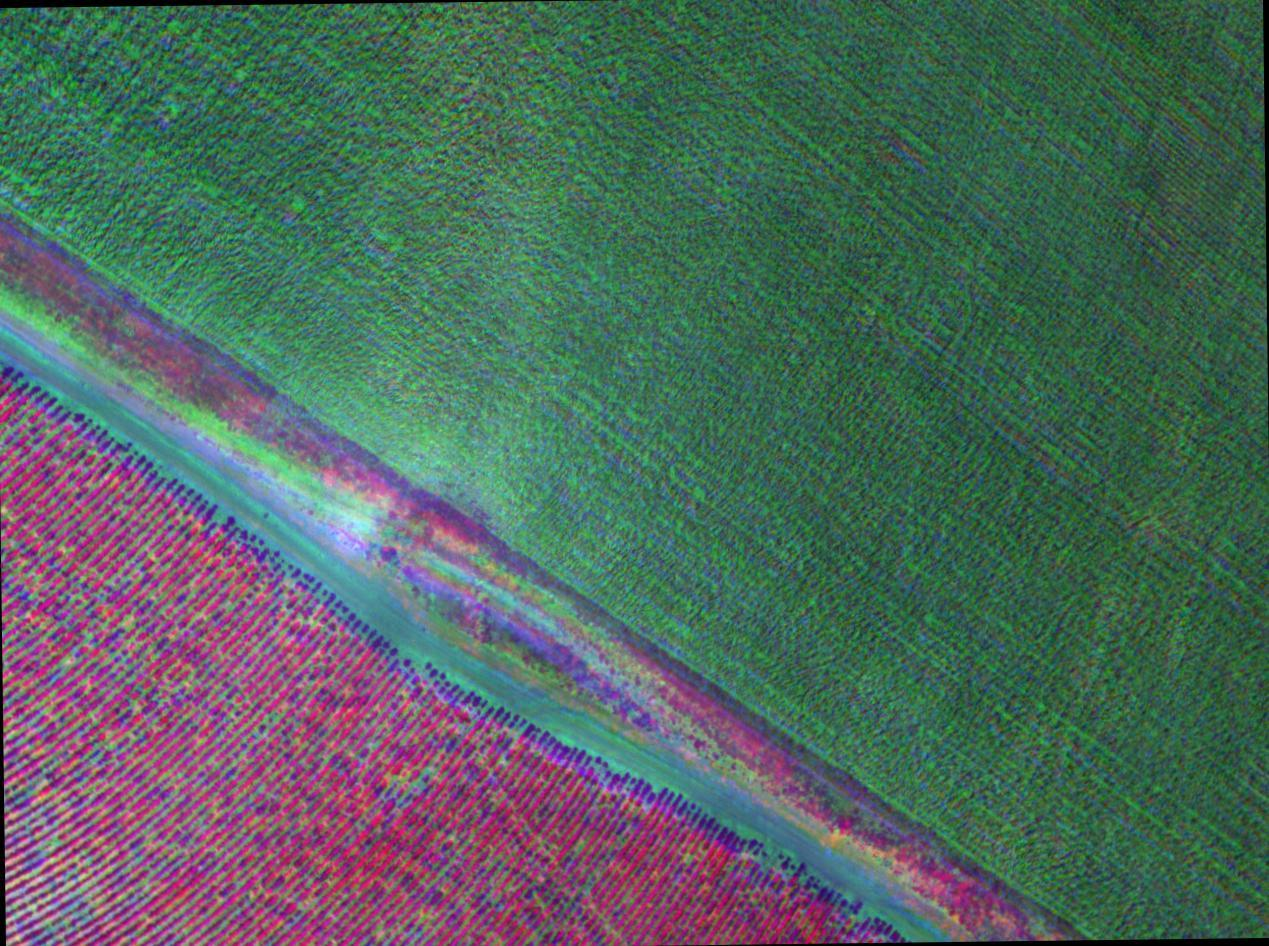dc: (0, 510, 80, 626), (115, 611, 194, 705), (31, 833, 113, 920), (11, 743, 111, 802), (5, 416, 84, 467), (376, 751, 439, 812)
